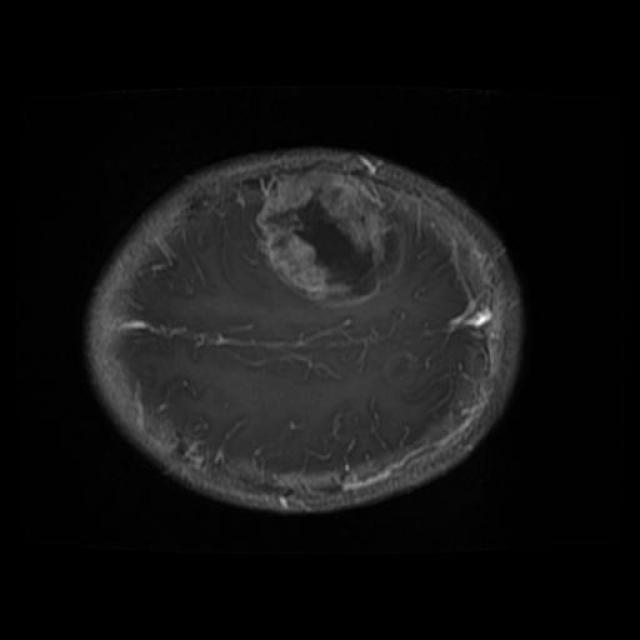Glioma: (255, 169, 394, 304)
